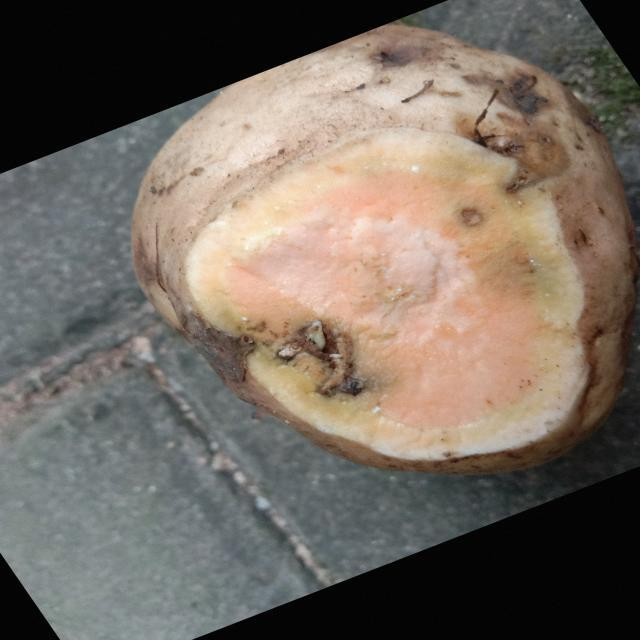Sick Sweet Potato_Tuber Rot: (185, 129, 587, 472)
